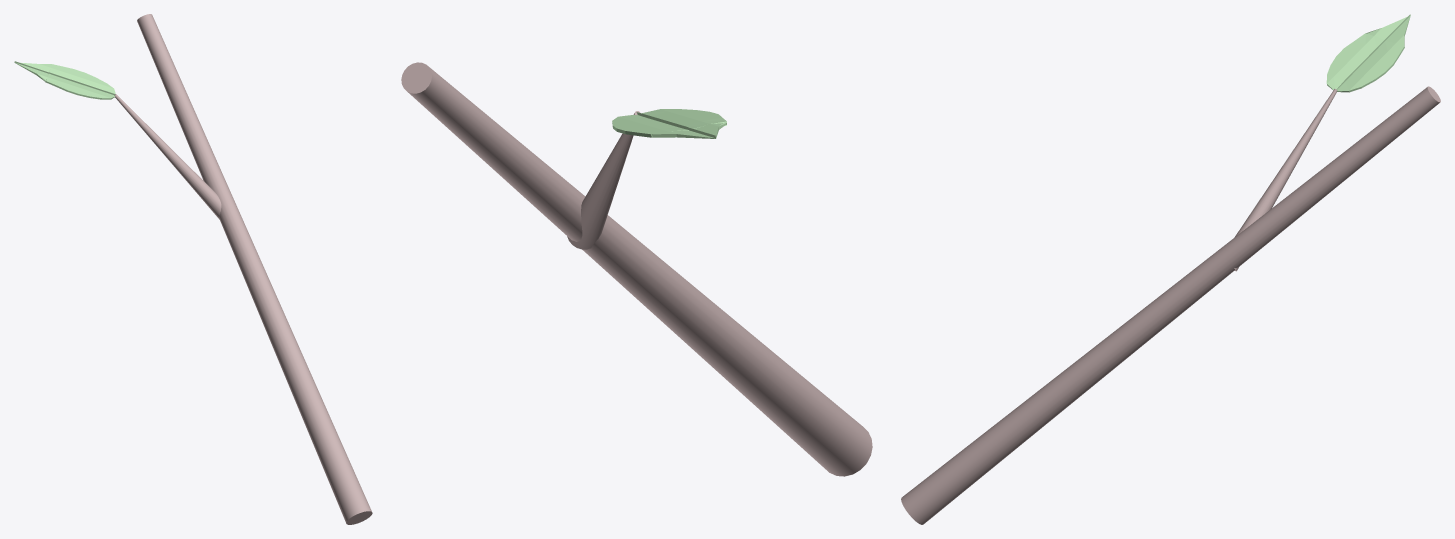
The model's file is Stick.fbx.
3 renders of one model, left to right at view 1: azimuth 30°, elevation 25°; view 2: azimuth 150°, elevation 25°; view 3: azimuth 270°, elevation 25°, orthographic. The views are drawn at different scales.
Visible parts, largest first — view 1: pasted__pCylinder1, pasted__pPlane2, pasted__pCylinder2; view 2: pasted__pCylinder1, pasted__pPlane2, pasted__pCylinder2; view 3: pasted__pCylinder1, pasted__pPlane2, pasted__pCylinder2.
Boxes of the visible parts, x1,y1,x2,y2 form: pasted__pCylinder1: [137, 14, 372, 524]; pasted__pPlane2: [14, 61, 115, 99]; pasted__pCylinder2: [114, 94, 221, 219]; pasted__pCylinder1: [401, 62, 872, 476]; pasted__pPlane2: [612, 109, 726, 138]; pasted__pCylinder2: [567, 111, 640, 249]; pasted__pCylinder1: [901, 86, 1440, 524]; pasted__pPlane2: [1326, 14, 1410, 92]; pasted__pCylinder2: [1234, 89, 1337, 271].
Bounding box in the file's own units: 3.07 × 6.91 × 7.76.
